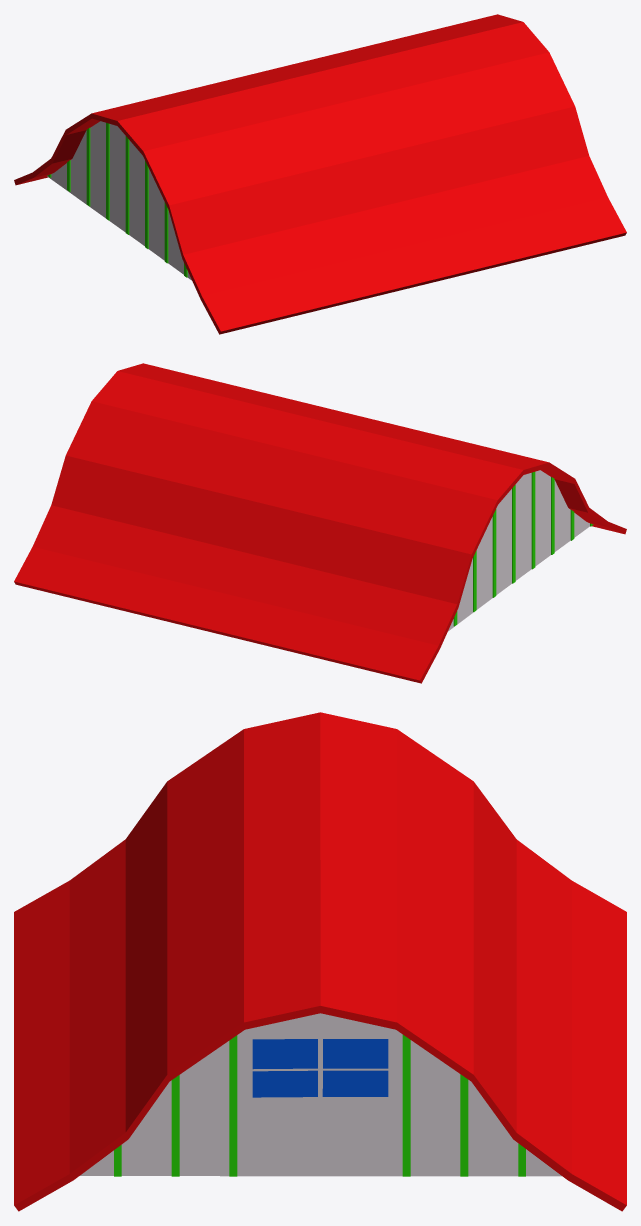
File: RoofV3.fbx
3 renders of one model, top to bottom at view 1: azimuth 30°, elevation 25°; view 2: azimuth 150°, elevation 25°; view 3: azimuth 270°, elevation 25°, orthographic. The views are drawn at different scales.
Parts seen in each view (by area): view 1: roofround; view 2: roofround; view 3: roofround.
Part boxes in pixels (bbox=[...]): roofround: bbox=[14, 14, 626, 334]; roofround: bbox=[14, 363, 626, 683]; roofround: bbox=[14, 712, 626, 1211].
Size of the model in its own units: 617 by 202 by 545.
